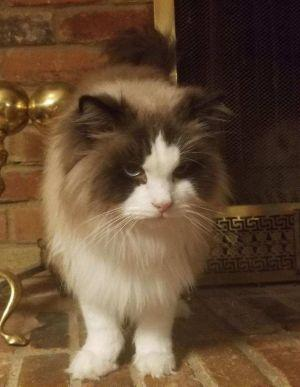ragdoll: (69, 65, 234, 246)
